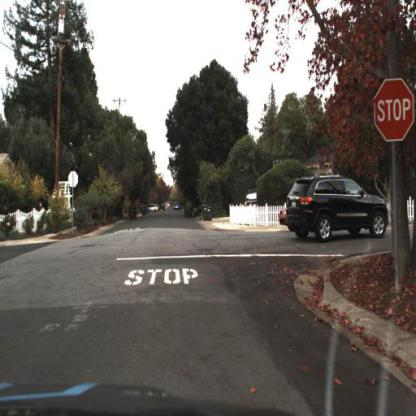car: (286, 172, 390, 244), (277, 195, 289, 235)
